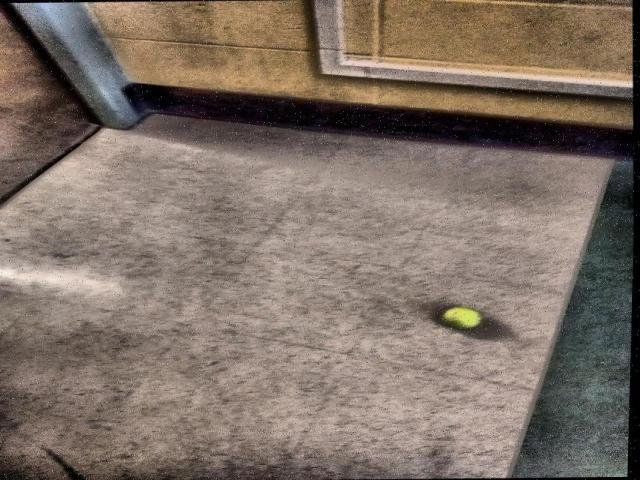tennis-ball: (440, 305, 486, 330)
